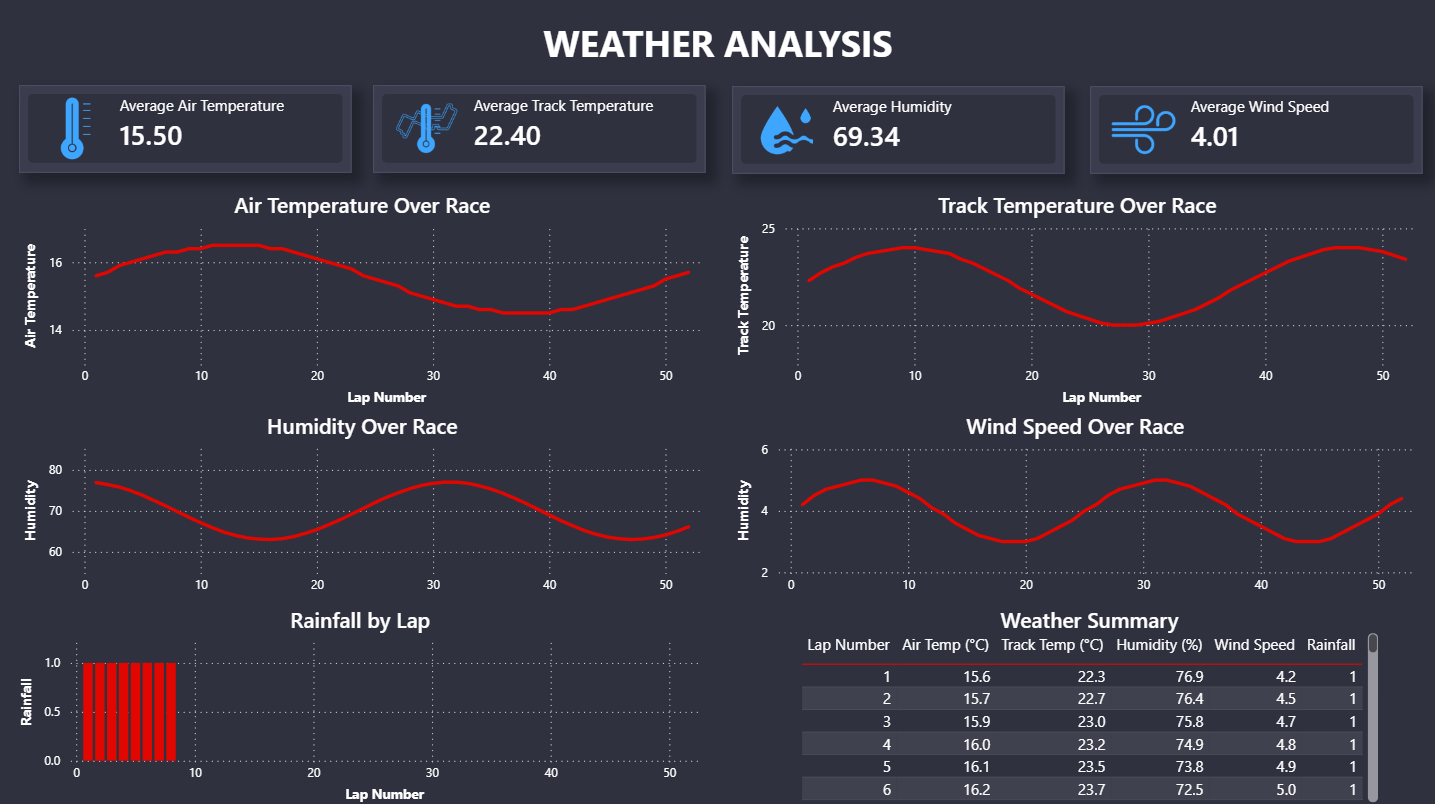

This screenshot's page, from the dashboard's own definition file:
{"tool":"powerbi","page":{"name":"Weather Analysis","canvas":[1280,720],"ordinal":4},"visuals":[{"type":"cardVisual","title":"Avg. Lap Duration","fields":{"Data":["Avg(weather_clean.air_temperature)"]},"box":[20.5,79.3,295,77.5],"z":0},{"type":"cardVisual","fields":{"Data":["Avg(weather_clean.track_temperature)"]},"box":[334.3,79.3,295,77.5],"z":1000},{"type":"cardVisual","fields":{"Data":["Avg(weather_clean.humidity)"]},"box":[652.5,80.2,295,77.5],"z":2000},{"type":"cardVisual","fields":{"Data":["Avg(weather_clean.wind_speed)"]},"box":[969.8,80.2,295,77.5],"z":3000},{"type":"textbox","box":[258.6,14.1,762.7,89.3],"z":4000},{"type":"lineChart","title":"Air Temperature Over Race","fields":{"Y":["Avg(weather_clean.air_temperature)"],"Category":["weather_clean.lap_number"]},"box":[20.5,172,608.8,196.1],"z":5000},{"type":"lineChart","title":"Track Temperature Over Race","fields":{"Category":["weather_clean.lap_number"],"Y":["Avg(weather_clean.track_temperature)"]},"box":[652.5,172,612.4,196.1],"z":6000},{"type":"lineChart","title":"Humidity Over Race","fields":{"Category":["weather_clean.lap_number"],"Y":["Avg(weather_clean.humidity)"]},"box":[20.5,368.1,608.8,172],"z":7000},{"type":"lineChart","title":"Wind Speed Over Race","fields":{"Category":["weather_clean.lap_number"],"Y":["Avg(weather_clean.wind_speed)"]},"box":[652.5,368.1,608.8,172],"z":8000},{"type":"clusteredColumnChart","title":"Rainfall by Lap","fields":{"Category":["weather_clean.lap_number"],"Y":["Avg(weather_clean.rainfall)"]},"box":[16.9,540.2,612.4,180.1],"z":9000},{"type":"tableEx","title":"Weather Summary","fields":{"Values":["weather_clean.lap_number","weather_clean.air_temperature","weather_clean.track_temperature","weather_clean.humidity","weather_clean.wind_speed","weather_clean.rainfall"]},"box":[708.6,540.2,522.3,180.1],"z":10000}]}

Visuals, with their boxes in screenshot pixels (x1, y1, x2, y2), scaled from the page's 1280x720 canvas onto the 1435x804 screenshot:
"Avg. Lap Duration" cardVisual: <region>23, 89, 354, 175</region>
cardVisual - Avg(weather_clean.track_temperature): <region>375, 89, 706, 175</region>
cardVisual - Avg(weather_clean.humidity): <region>732, 90, 1062, 176</region>
cardVisual - Avg(weather_clean.wind_speed): <region>1087, 90, 1418, 176</region>
textbox: <region>290, 16, 1145, 115</region>
"Air Temperature Over Race" lineChart: <region>23, 192, 706, 411</region>
"Track Temperature Over Race" lineChart: <region>732, 192, 1418, 411</region>
"Humidity Over Race" lineChart: <region>23, 411, 706, 603</region>
"Wind Speed Over Race" lineChart: <region>732, 411, 1414, 603</region>
"Rainfall by Lap" clusteredColumnChart: <region>19, 603, 706, 803</region>
"Weather Summary" tableEx: <region>794, 603, 1380, 803</region>
